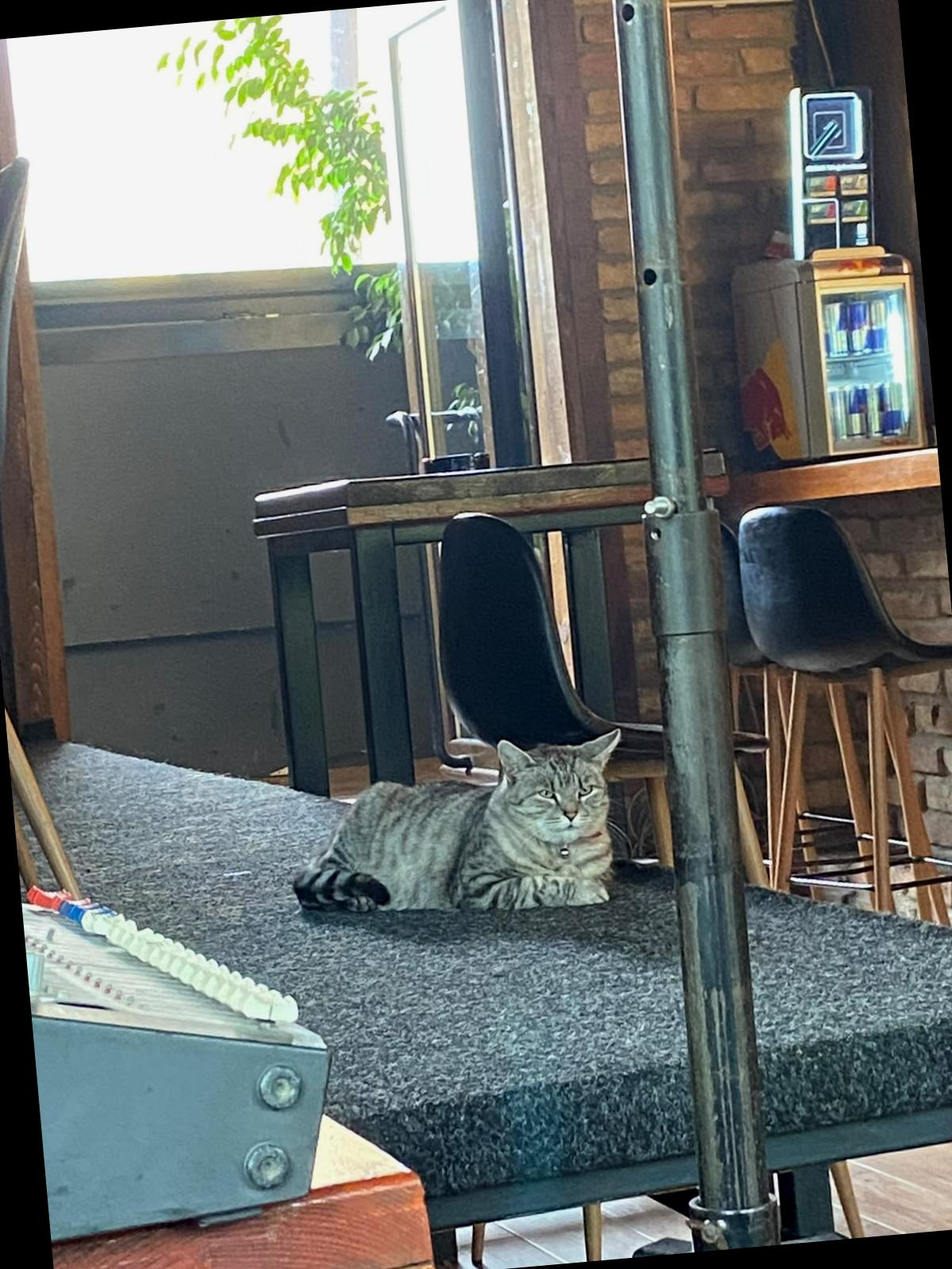macka: (282, 727, 637, 931)
